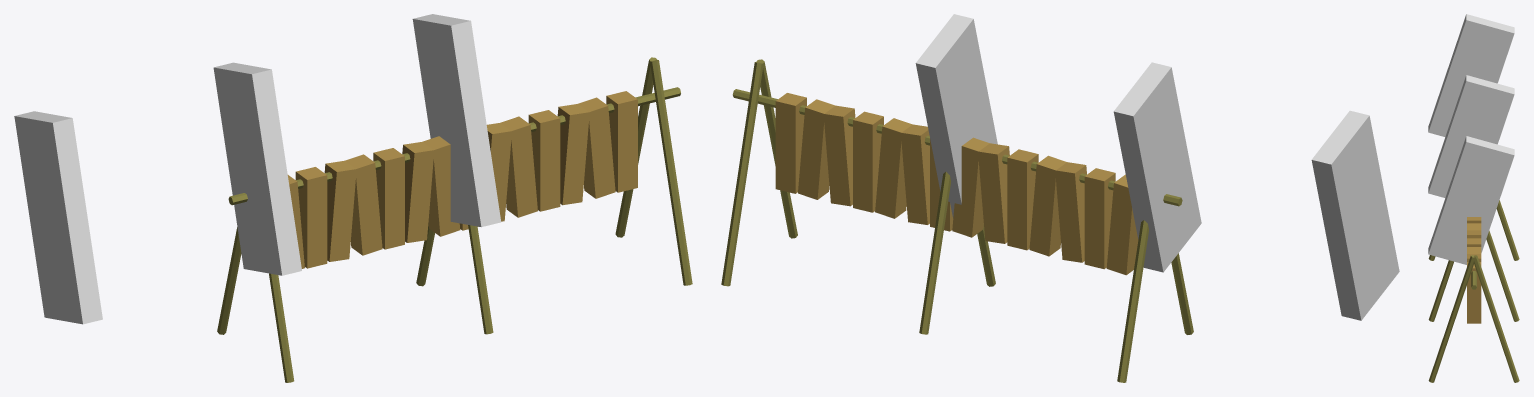
File: Hasa.fbx
3 views of the same model, side by side, from view 1: azimuth 30°, elevation 25°; view 2: azimuth 150°, elevation 25°; view 3: azimuth 270°, elevation 25° (orthographic). The views are drawn at different scales.
Visible parts, largest first — view 1: Hasa, COL_Hasa_0, COL_Hasa_1, COL_Hasa_2; view 2: Hasa, COL_Hasa_0, COL_Hasa_1, COL_Hasa_2; view 3: COL_Hasa_2, COL_Hasa_1, COL_Hasa_0, Hasa.
Boxes of the visible parts, x1,y1,x2,y2 form: Hasa: [217, 57, 692, 382]; COL_Hasa_0: [14, 111, 102, 324]; COL_Hasa_1: [213, 62, 301, 275]; COL_Hasa_2: [412, 14, 501, 227]; Hasa: [721, 59, 1193, 382]; COL_Hasa_0: [1311, 110, 1399, 320]; COL_Hasa_1: [1113, 62, 1201, 272]; COL_Hasa_2: [915, 14, 997, 218]; COL_Hasa_2: [1428, 136, 1514, 264]; COL_Hasa_1: [1428, 75, 1514, 197]; COL_Hasa_0: [1428, 14, 1514, 136]; Hasa: [1428, 200, 1519, 382].
Bounding box in the file's own units: 6.35 × 2.79 × 1.27.
